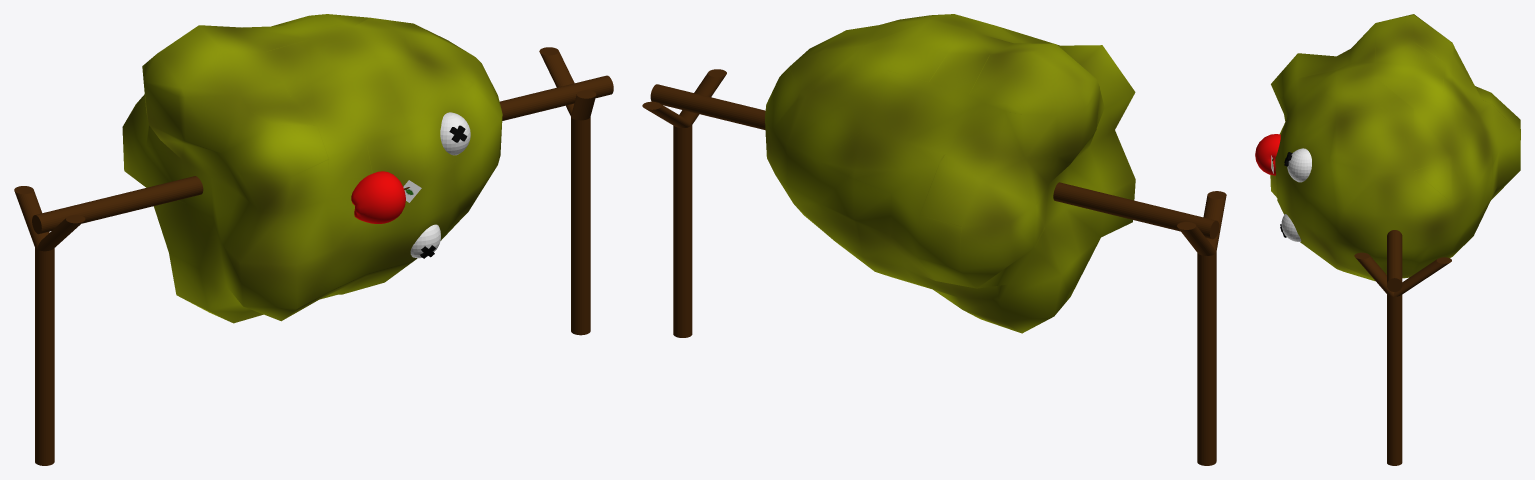
Rendered from roasted whole slime.fbx.
3 views of the same model, side by side, from view 1: azimuth 30°, elevation 25°; view 2: azimuth 150°, elevation 25°; view 3: azimuth 270°, elevation 25° (orthographic). The views are drawn at different scales.
Visible parts, largest first — view 1: Mball.007; view 2: Mball.007; view 3: Mball.007.
Part boxes in pixels (x1,y1,x2,y2): Mball.007: (14,14,613,465); Mball.007: (642,14,1226,465); Mball.007: (1255,14,1520,465).
Size of the model in its own units: 539 by 348 by 275.
